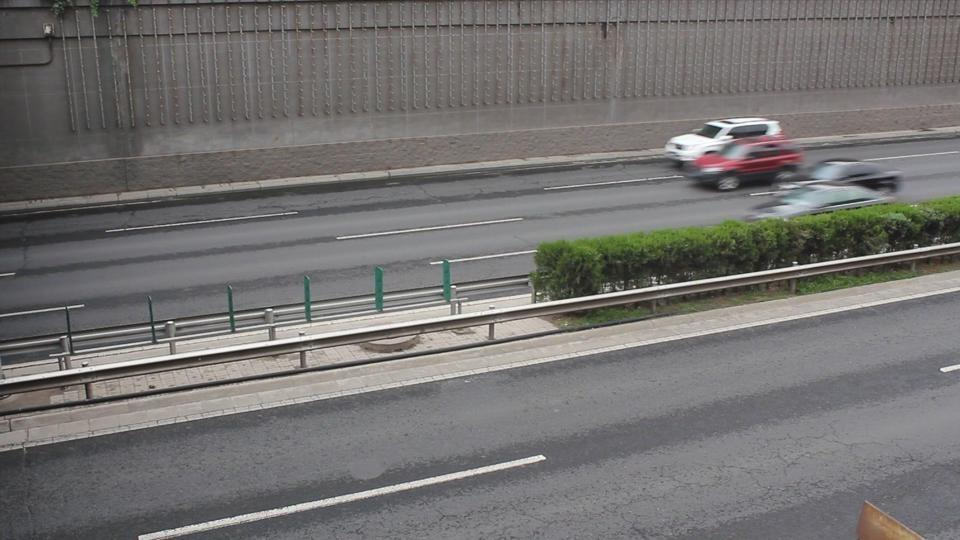car: (748, 159, 903, 214), (684, 137, 806, 192), (667, 117, 801, 167)
